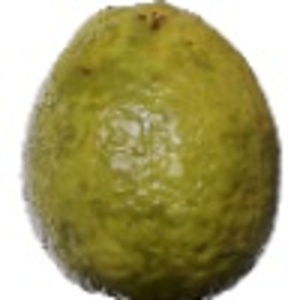goiaba: (15, 2, 287, 299)
